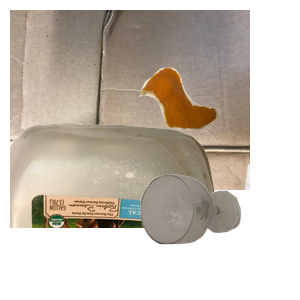cardboard: (10, 10, 250, 190)
glass: (138, 172, 300, 300)
plastic: (10, 120, 220, 300)
trash: (137, 65, 300, 188)
